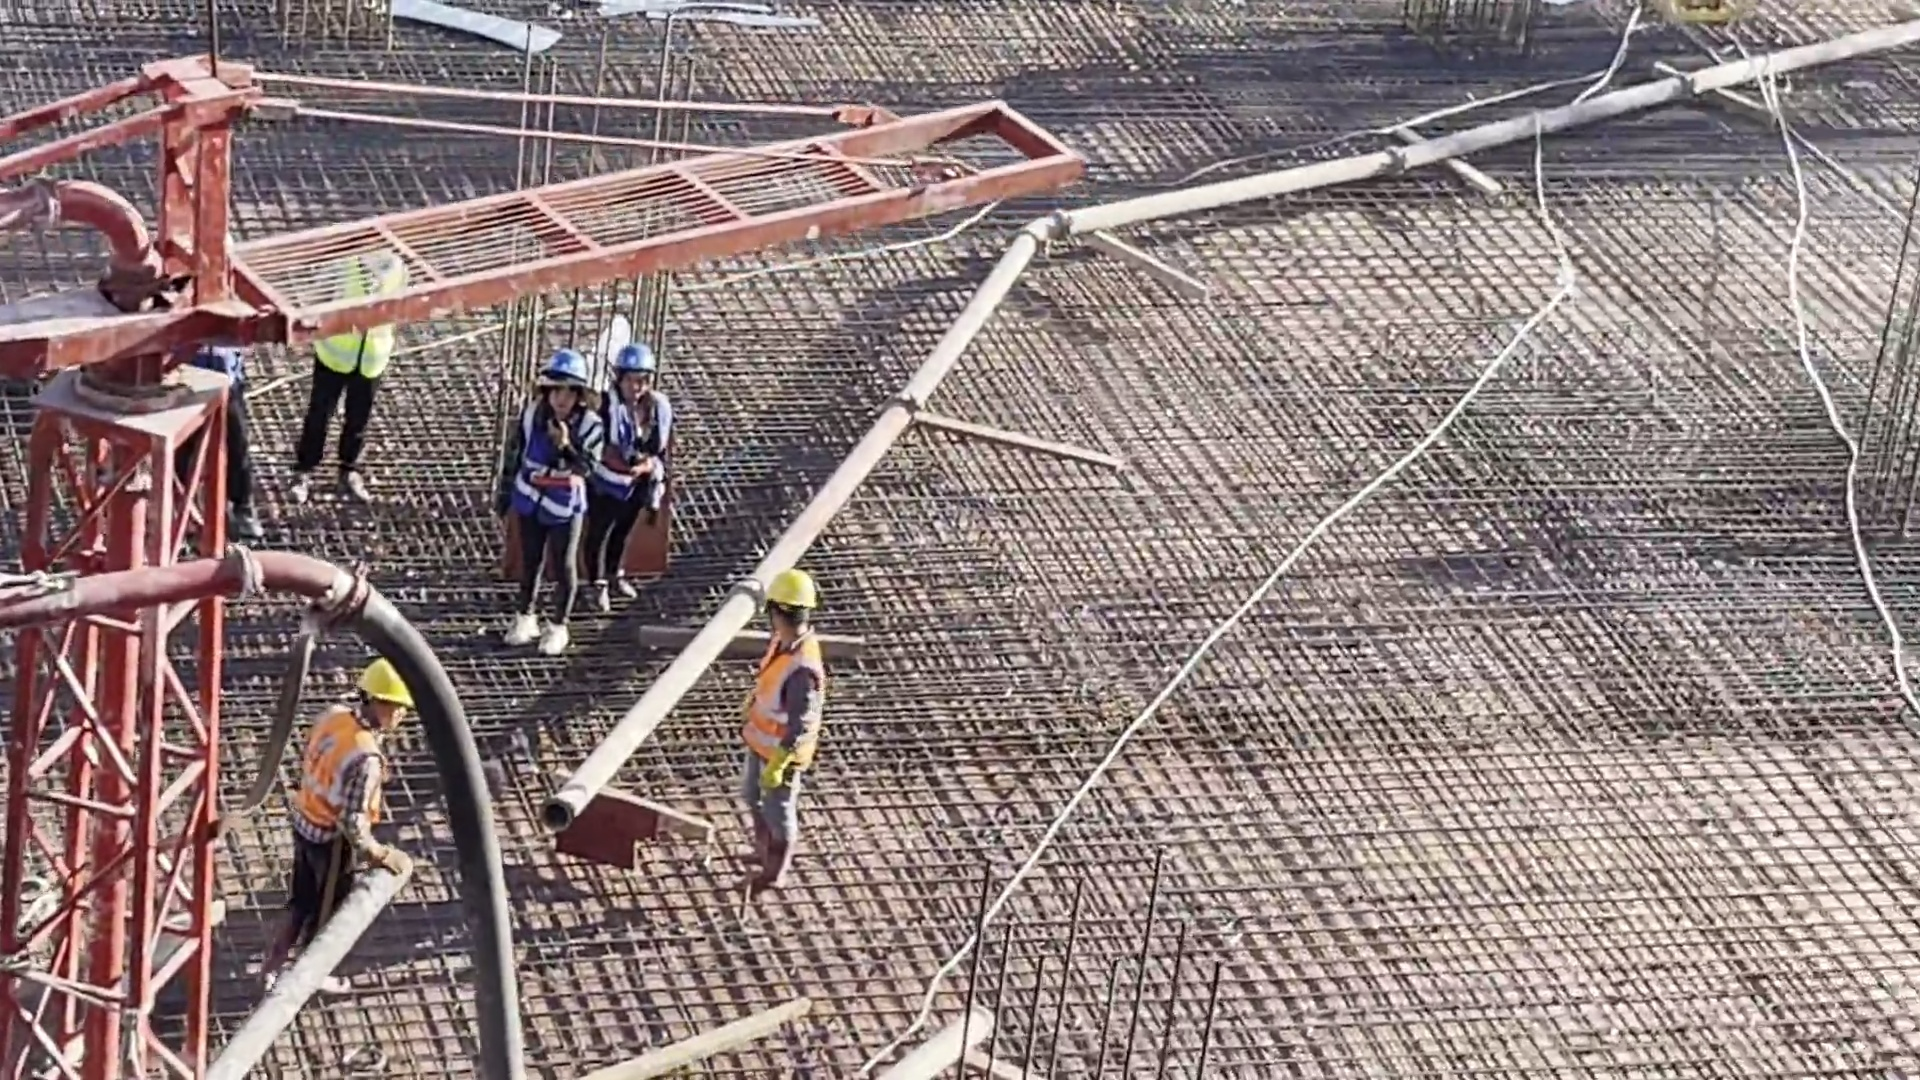helmet: (363, 660, 412, 718), (765, 569, 821, 608), (538, 352, 589, 394), (617, 345, 659, 384)
person: (281, 658, 437, 957), (721, 565, 825, 895), (497, 347, 598, 655), (289, 228, 396, 513), (579, 342, 675, 619), (175, 328, 271, 538)
vest: (293, 691, 367, 860), (524, 413, 603, 529), (746, 658, 815, 767), (615, 413, 673, 504), (335, 284, 382, 390)
